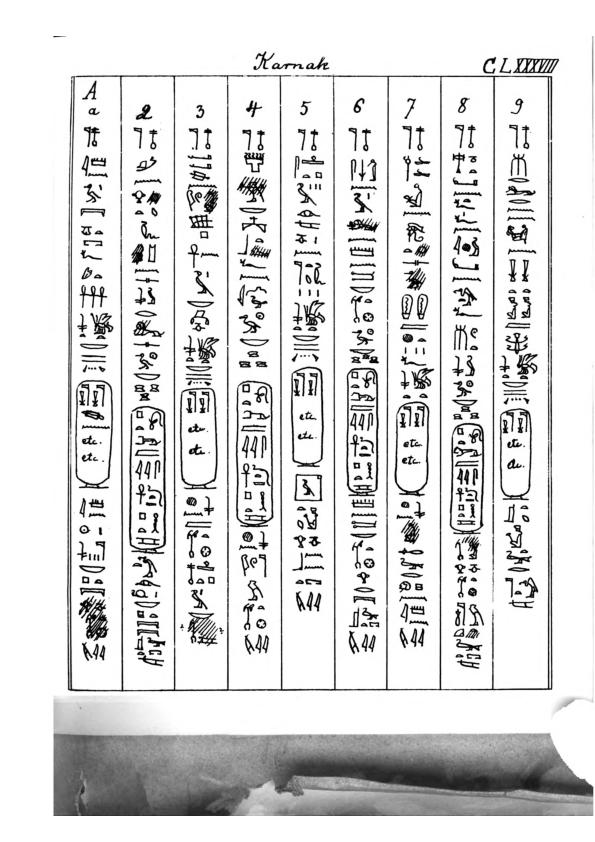circle: (127, 404, 169, 556), (233, 377, 275, 529), (342, 364, 380, 498), (178, 387, 222, 493), (74, 378, 115, 491), (286, 364, 327, 470), (449, 421, 486, 536), (393, 400, 431, 500), (498, 406, 535, 503)
